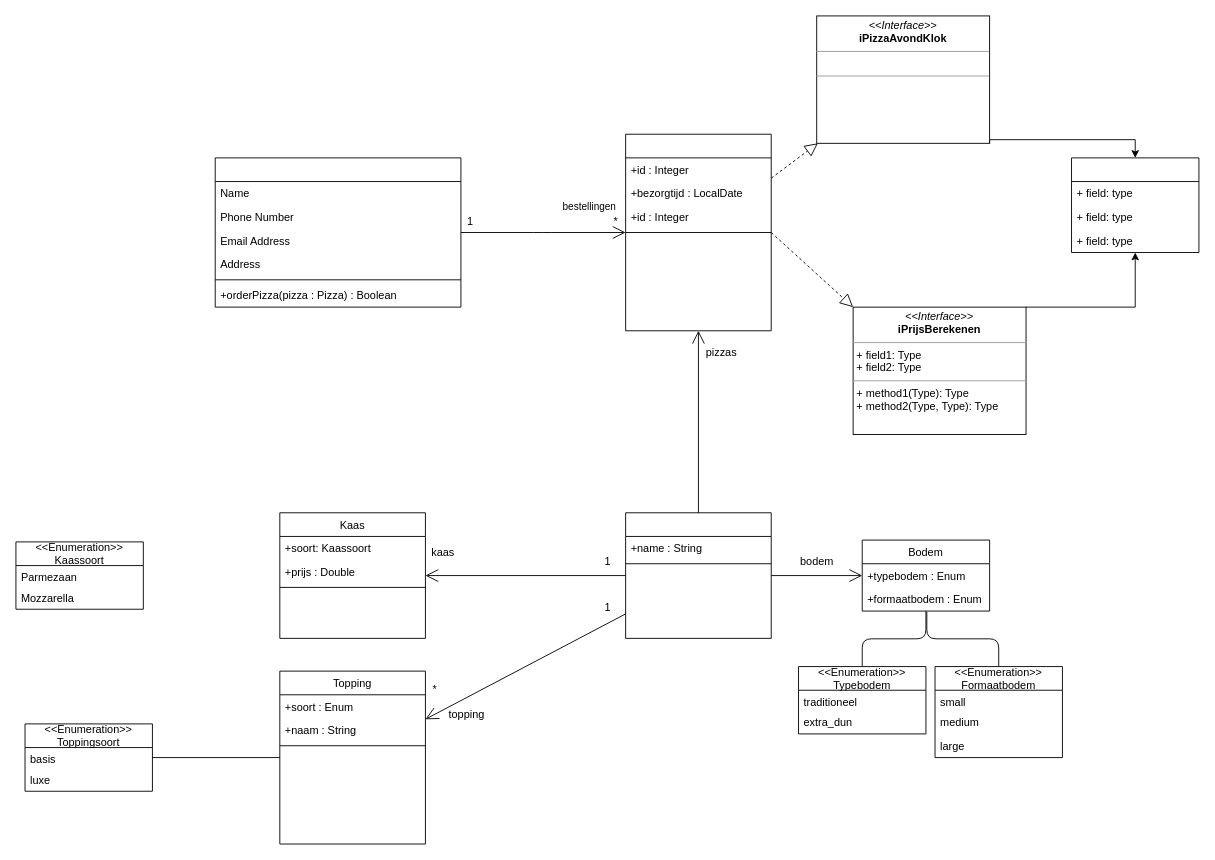
Image size: 1215x860. Some labels were removed from this diagram. The shapes that lost their labels are listed below. From the top down, each one's box as (x1, y1, x2, y2) in pixels, then its label:
(1071, 157, 1199, 253): Logica
(214, 157, 461, 307): Klant
(625, 133, 771, 331): Bestelling
(625, 512, 771, 638): Pizza
